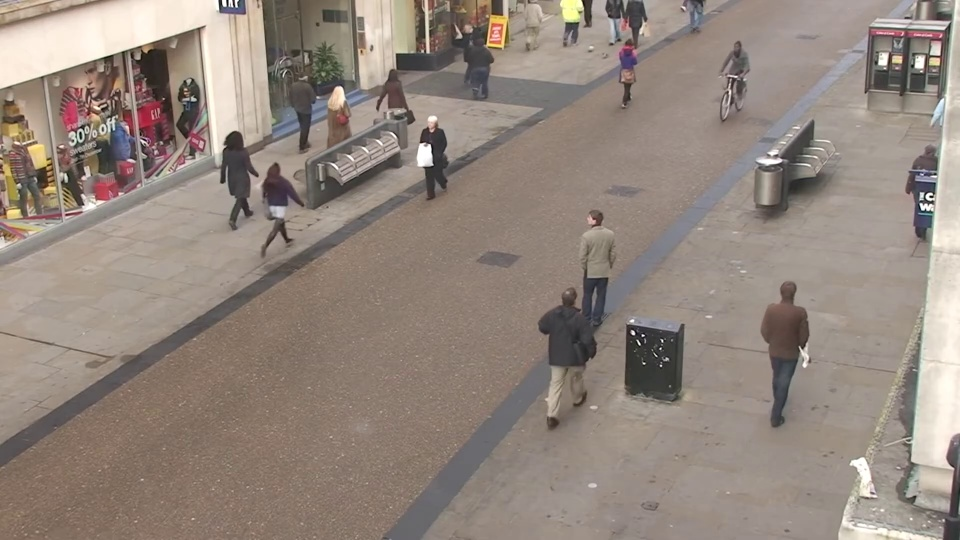pedestrian: (764, 269, 814, 406), (555, 272, 599, 410), (576, 204, 614, 324), (279, 155, 318, 260), (227, 122, 264, 217), (414, 114, 447, 209), (331, 78, 362, 163), (296, 68, 326, 149), (384, 63, 413, 143), (712, 45, 739, 122), (468, 33, 494, 106), (620, 32, 644, 105), (457, 20, 482, 89)
